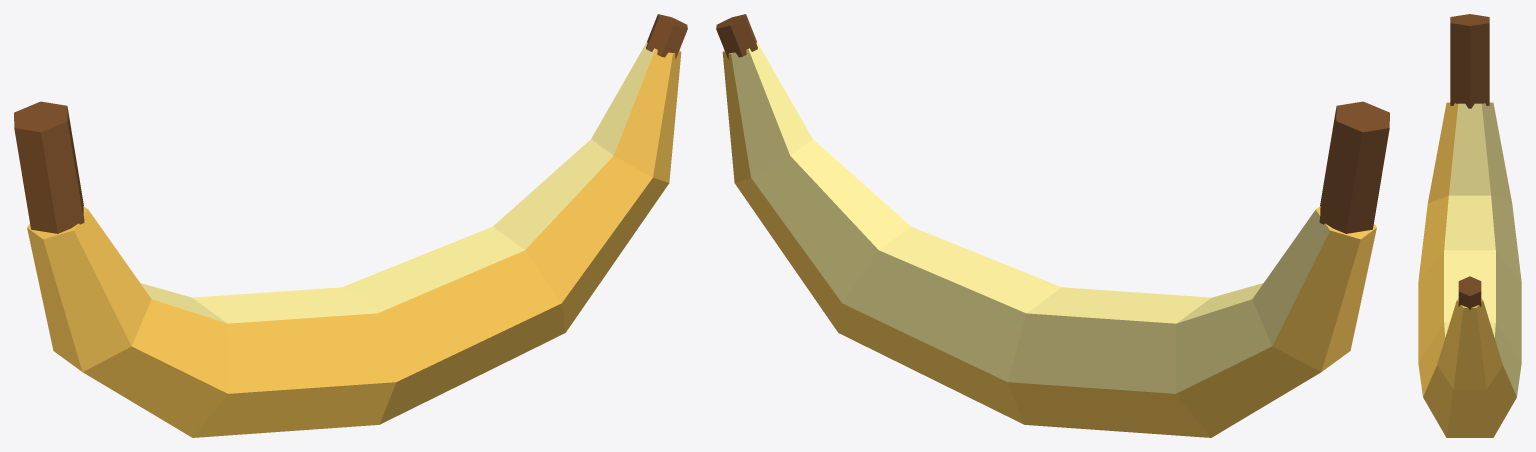
File: 01-banana.glb
The picture shows the model from 3 angles, left to right: view 1: azimuth 30°, elevation 25°; view 2: azimuth 150°, elevation 25°; view 3: azimuth 270°, elevation 25°; orthographic projection. The views are drawn at different scales.
Visible parts, largest first — view 1: 01-banana__Fruit, 01-banana__Stem, 01-banana__Tip; view 2: 01-banana__Fruit, 01-banana__Stem, 01-banana__Tip; view 3: 01-banana__Fruit, 01-banana__Stem, 01-banana__Tip.
Part boxes in pixels (x1=…): 01-banana__Fruit: x1=27, y1=42, x2=681, y2=437; 01-banana__Stem: x1=14, y1=101, x2=84, y2=233; 01-banana__Tip: x1=646, y1=14, x2=687, y2=58; 01-banana__Fruit: x1=722, y1=42, x2=1376, y2=437; 01-banana__Stem: x1=1319, y1=101, x2=1389, y2=233; 01-banana__Tip: x1=716, y1=14, x2=757, y2=59; 01-banana__Fruit: x1=1418, y1=102, x2=1521, y2=437; 01-banana__Stem: x1=1450, y1=14, x2=1489, y2=108; 01-banana__Tip: x1=1458, y1=276, x2=1481, y2=309.
Size of the model in its own units: 0.5994 by 0.3216 by 0.11.
